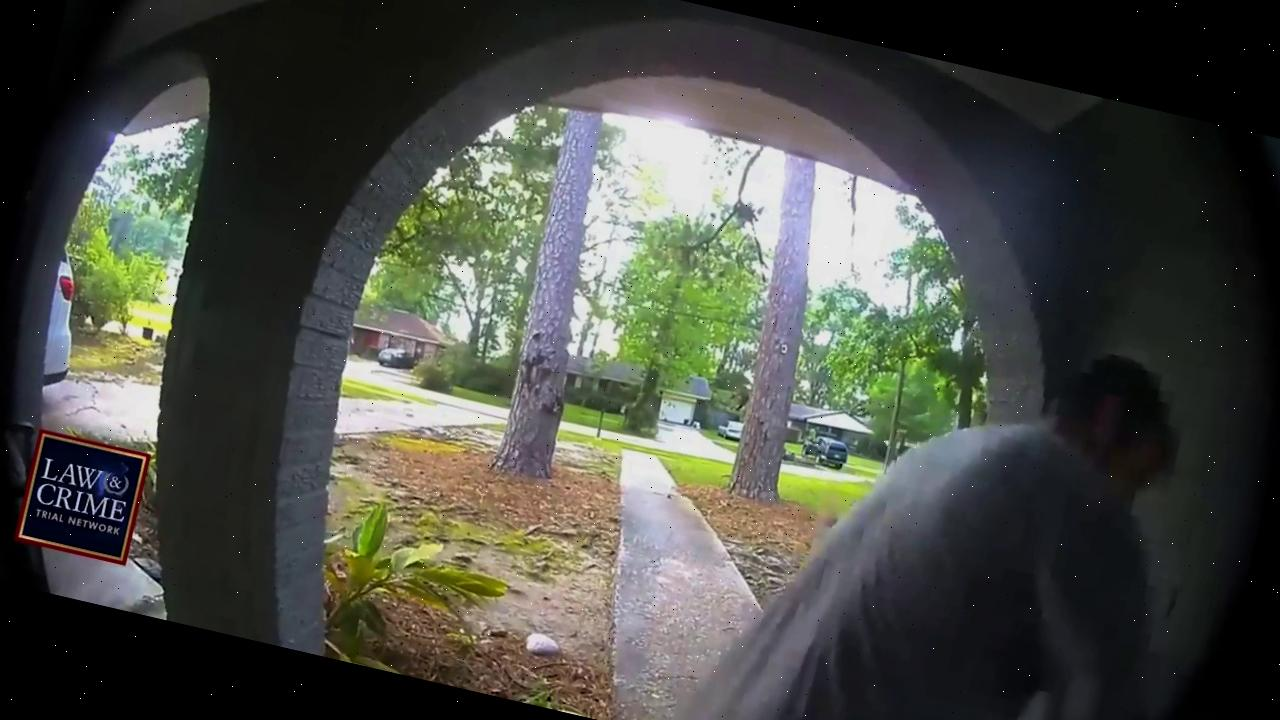suspicion: (691, 252, 1266, 720)
